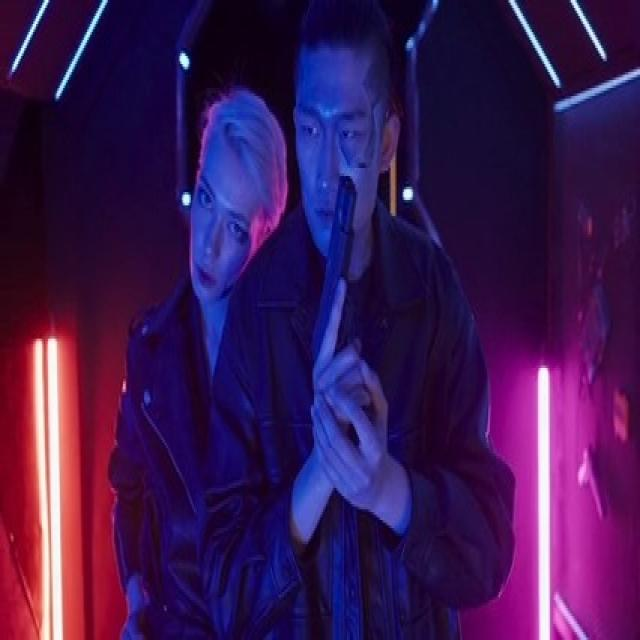Gun_Holder: (293, 167, 410, 526)
Jacket_Wearer: (214, 206, 515, 640), (112, 281, 246, 640)
Person: (222, 0, 502, 640), (104, 75, 294, 626)
